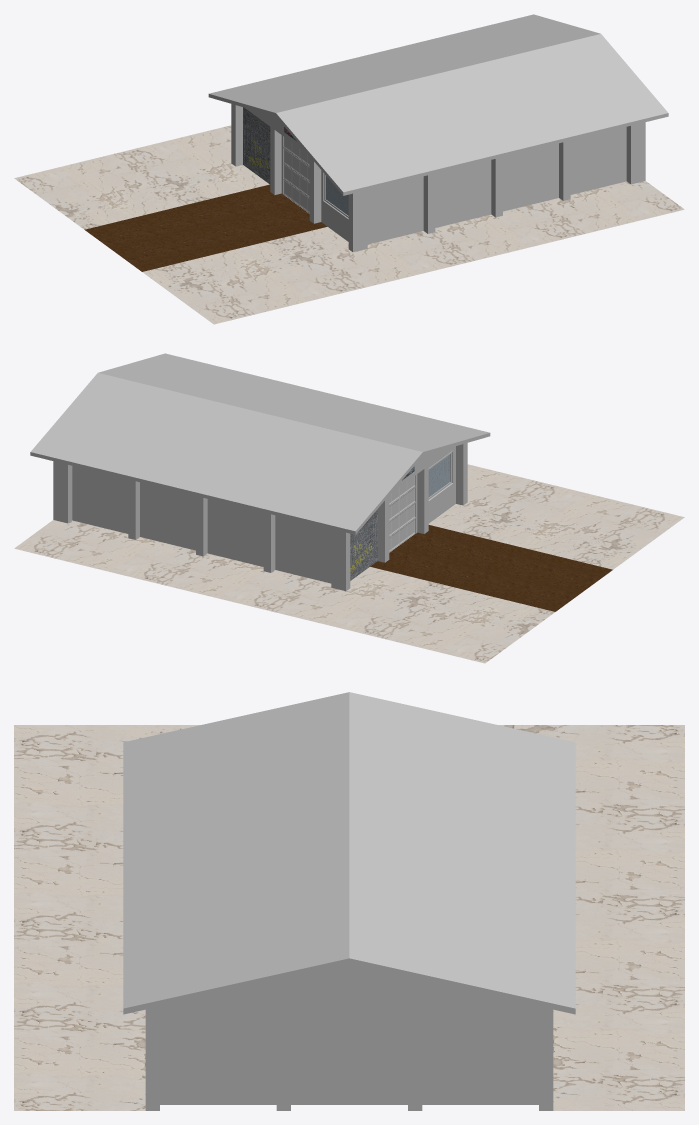
Rendered from Garage00.dae.
3 views of the same model, one above another, from view 1: azimuth 30°, elevation 25°; view 2: azimuth 150°, elevation 25°; view 3: azimuth 270°, elevation 25° (orthographic). The views are drawn at different scales.
Visible parts, largest first — view 1: group_0 (×9); view 2: group_0 (×9); view 3: group_0 (×6).
Part boxes in pixels (x1,y1,x2,y2): group_0 (×9): (14, 14, 684, 324); group_0 (×9): (14, 353, 684, 663); group_0 (×6): (14, 692, 684, 1110).
Bounding box in the file's own units: 860 × 611 × 167.
